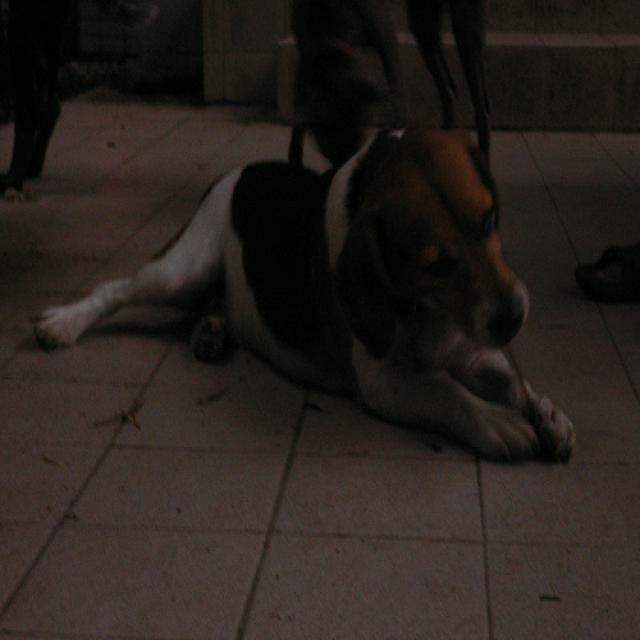dog: (63, 123, 577, 482)
